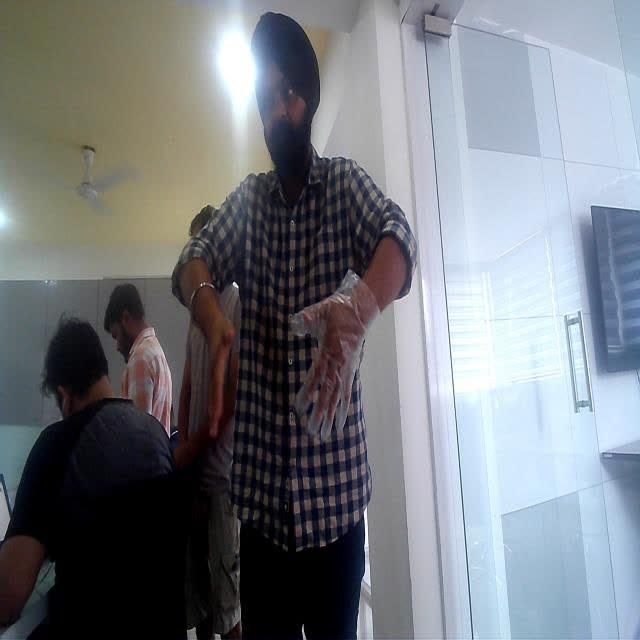with_gloves: (287, 270, 381, 450)
without_gloves: (200, 306, 233, 452)
